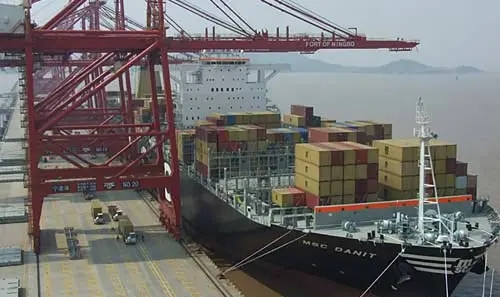Cargoship: (118, 48, 500, 289)
